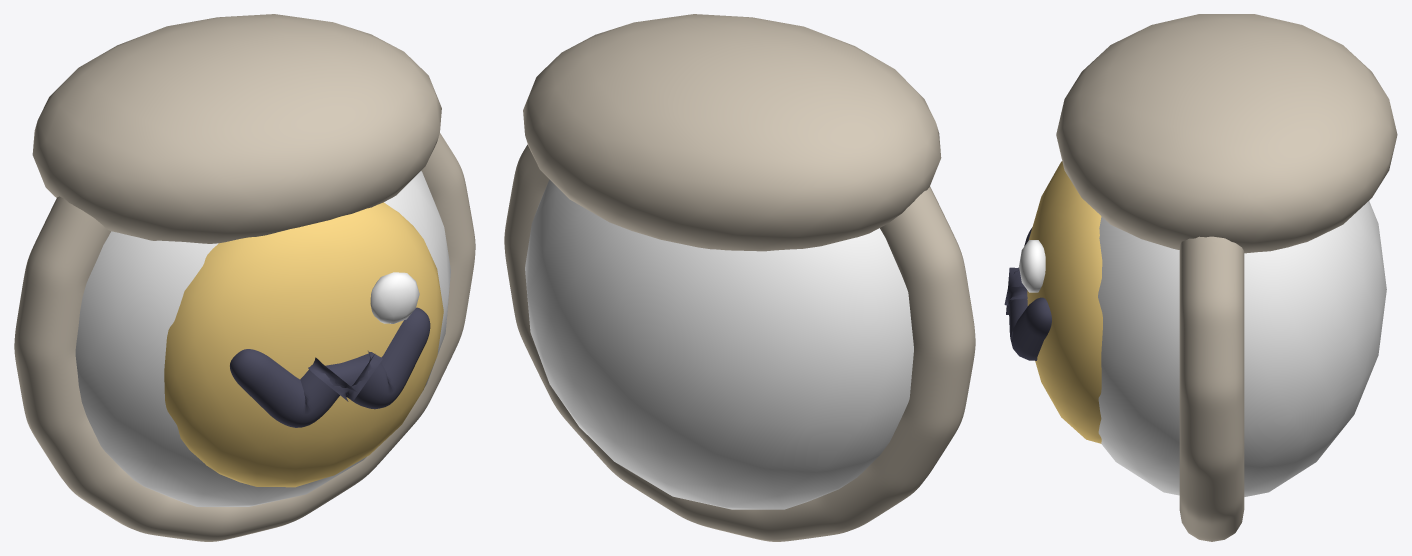
Rendered from creature.squideye.glb.
3 views of the same model, side by side, from view 1: azimuth 30°, elevation 25°; view 2: azimuth 150°, elevation 25°; view 3: azimuth 270°, elevation 25° (orthographic). The views are drawn at different scales.
Visible parts, largest first — view 1: Skin, Beak, EyeWhite, Pupil, Glint; view 2: Skin, EyeWhite; view 3: Skin, EyeWhite, Beak, Pupil, Glint.
Boxes of the visible parts, x1,y1,x2,y2 form: Skin: (14,14,475,541); Beak: (164,202,443,487); EyeWhite: (75,171,450,506); Pupil: (230,307,430,427); Glint: (370,272,419,323); Skin: (504,14,975,541); EyeWhite: (525,179,913,509); Skin: (1056,14,1397,541); EyeWhite: (1098,201,1386,496); Beak: (1027,161,1102,443); Pupil: (1004,227,1051,360); Glint: (1019,240,1045,292).
Size of the model in its own units: 2.37 by 2.42 by 1.84.
